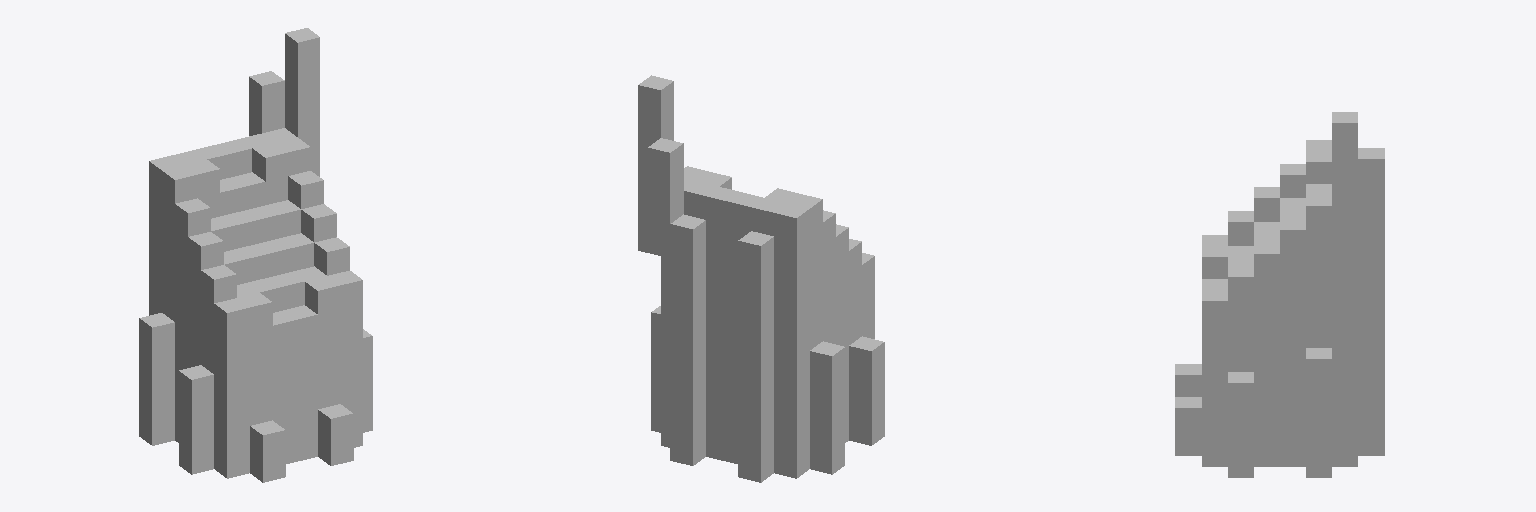
Rendered from terminalRed.obj.
3 renders of one model, left to right at view 1: azimuth 30°, elevation 25°; view 2: azimuth 150°, elevation 25°; view 3: azimuth 270°, elevation 25°, orthographic.
Parts seen in each view (by area): view 1: object 1; view 2: object 1; view 3: object 1.
Boxes of the visible parts, <box> form: object 1: <box>139,28,372,482</box>; object 1: <box>638,75,884,482</box>; object 1: <box>1175,112,1384,477</box>.
Size of the model in its own units: 0.8 by 1.5 by 0.8.